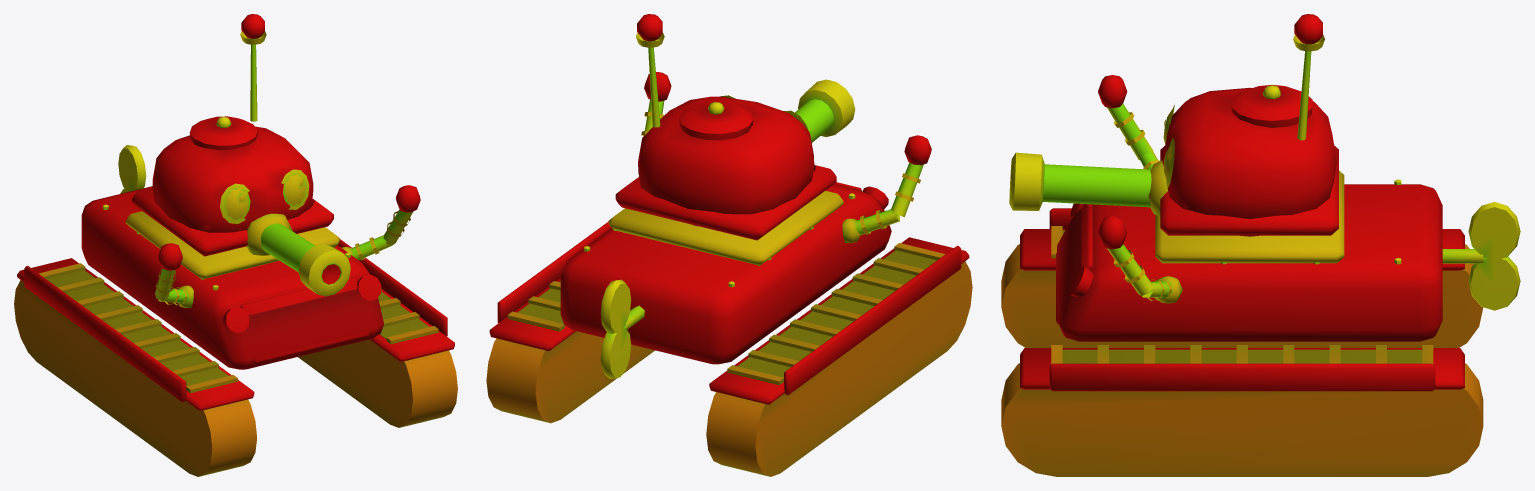
Rendered from RoboTank.glb.
3 views of the same model, side by side, from view 1: azimuth 30°, elevation 25°; view 2: azimuth 150°, elevation 25°; view 3: azimuth 270°, elevation 25° (orthographic). The views are drawn at different scales.
Parts seen in each view (by area): view 1: RoboTank; view 2: RoboTank; view 3: RoboTank.
Boxes of the visible parts, x1=… form: RoboTank: x1=14, y1=14, x2=457, y2=476; RoboTank: x1=486, y1=14, x2=972, y2=476; RoboTank: x1=1001, y1=14, x2=1520, y2=476.
Size of the model in its own units: 1.62 by 1.98 by 2.24.
